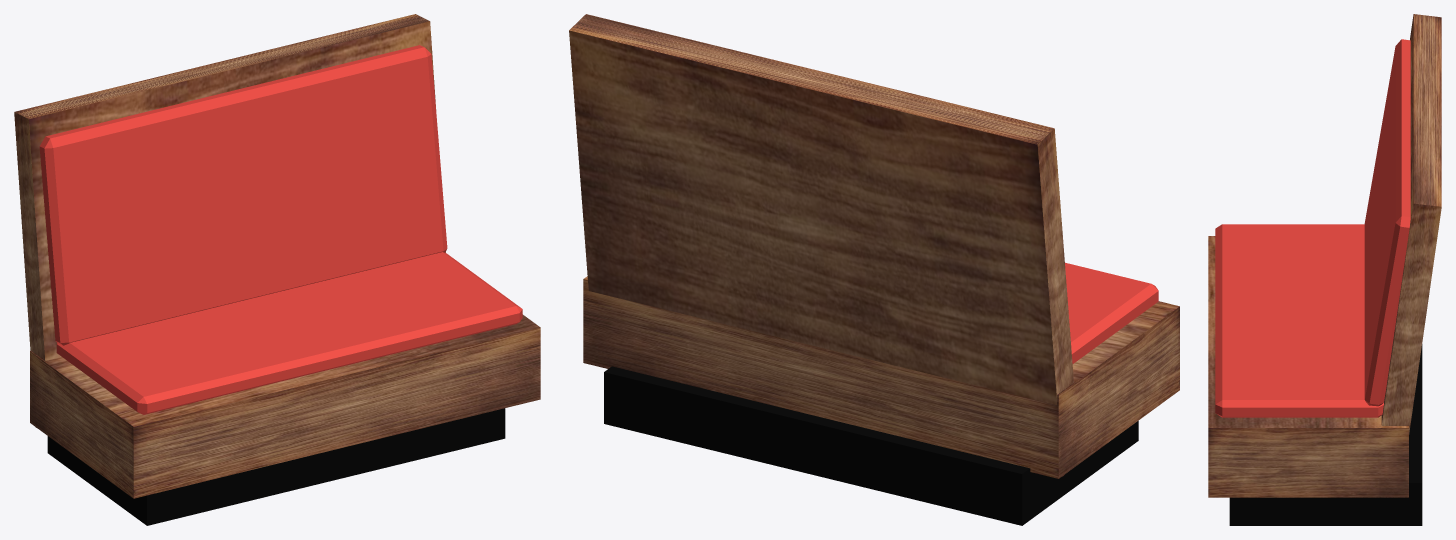
Rendered from sillon.obj.
3 renders of one model, left to right at view 1: azimuth 30°, elevation 25°; view 2: azimuth 150°, elevation 25°; view 3: azimuth 270°, elevation 25°, orthographic. The views are drawn at different scales.
Visible parts, largest first — view 1: polySurface1 polySurface9, polySurface1 polySurface7, polySurface1 polySurface6, polySurface10 polySurface1, polySurface1 polySurface8; view 2: polySurface10 polySurface1, polySurface1 polySurface7, polySurface1 polySurface8, polySurface1 polySurface6; view 3: polySurface1 polySurface6, polySurface1 polySurface7, polySurface10 polySurface1, polySurface1 polySurface9, polySurface1 polySurface8.
Part boxes in pixels (x1=…): polySurface1 polySurface9: x1=39, y1=45, x2=447, y2=345; polySurface1 polySurface7: x1=30, y1=314, x2=540, y2=498; polySurface1 polySurface6: x1=56, y1=252, x2=522, y2=414; polySurface10 polySurface1: x1=14, y1=14, x2=445, y2=427; polySurface1 polySurface8: x1=47, y1=408, x2=505, y2=525; polySurface10 polySurface1: x1=569, y1=14, x2=1073, y2=476; polySurface1 polySurface7: x1=583, y1=276, x2=1179, y2=478; polySurface1 polySurface8: x1=604, y1=366, x2=1138, y2=525; polySurface1 polySurface6: x1=1065, y1=262, x2=1158, y2=363; polySurface1 polySurface6: x1=1215, y1=224, x2=1383, y2=417; polySurface1 polySurface7: x1=1208, y1=236, x2=1408, y2=497; polySurface10 polySurface1: x1=1381, y1=14, x2=1441, y2=434; polySurface1 polySurface9: x1=1364, y1=39, x2=1410, y2=406; polySurface1 polySurface8: x1=1229, y1=344, x2=1422, y2=525.
Size of the model in its own units: 2.36 by 1.9 by 1.21.
3 materials, 3 textured.
